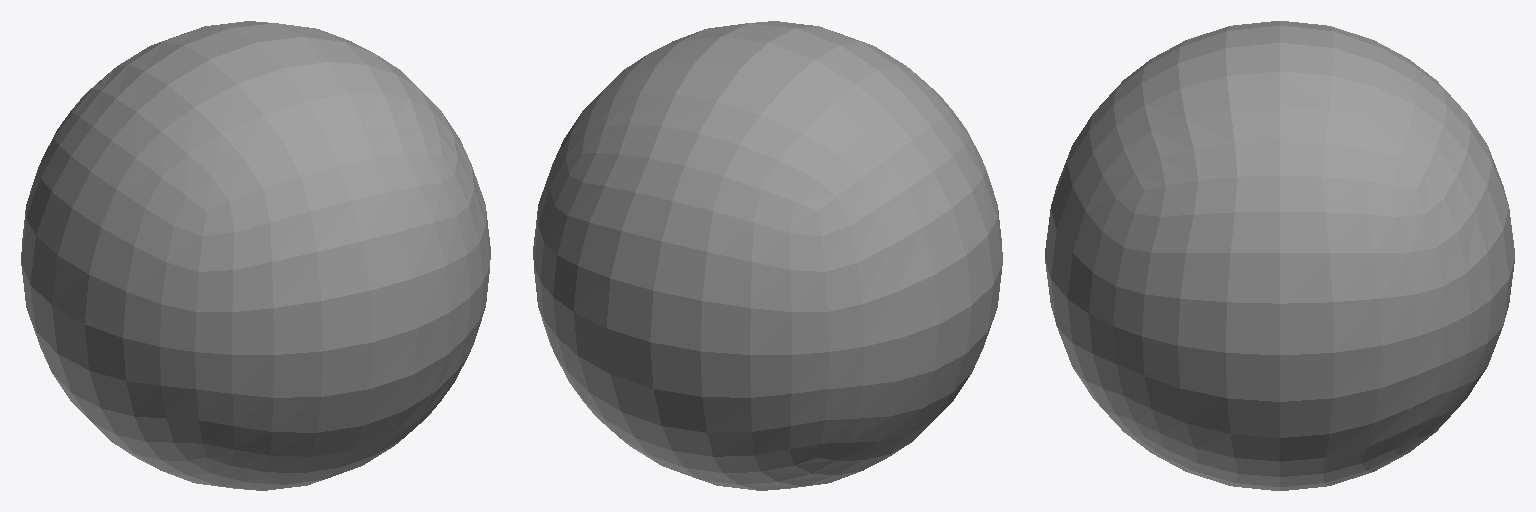
File: unit_sphere.obj
3 renders of one model, left to right at view 1: azimuth 30°, elevation 25°; view 2: azimuth 150°, elevation 25°; view 3: azimuth 270°, elevation 25°, orthographic.
Visible parts, largest first — view 1: UnrealEdObject.004; view 2: UnrealEdObject.004; view 3: UnrealEdObject.004.
Part boxes in pixels (x1,y1,x2,y2): UnrealEdObject.004: (21, 21, 490, 490); UnrealEdObject.004: (533, 21, 1002, 490); UnrealEdObject.004: (1045, 21, 1514, 490).
Size of the model in its own units: 1.96 by 1.96 by 1.96.